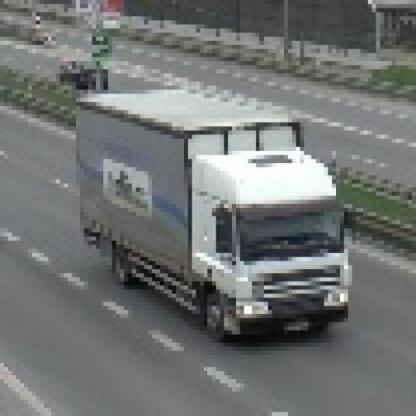truck: (81, 87, 369, 340)
